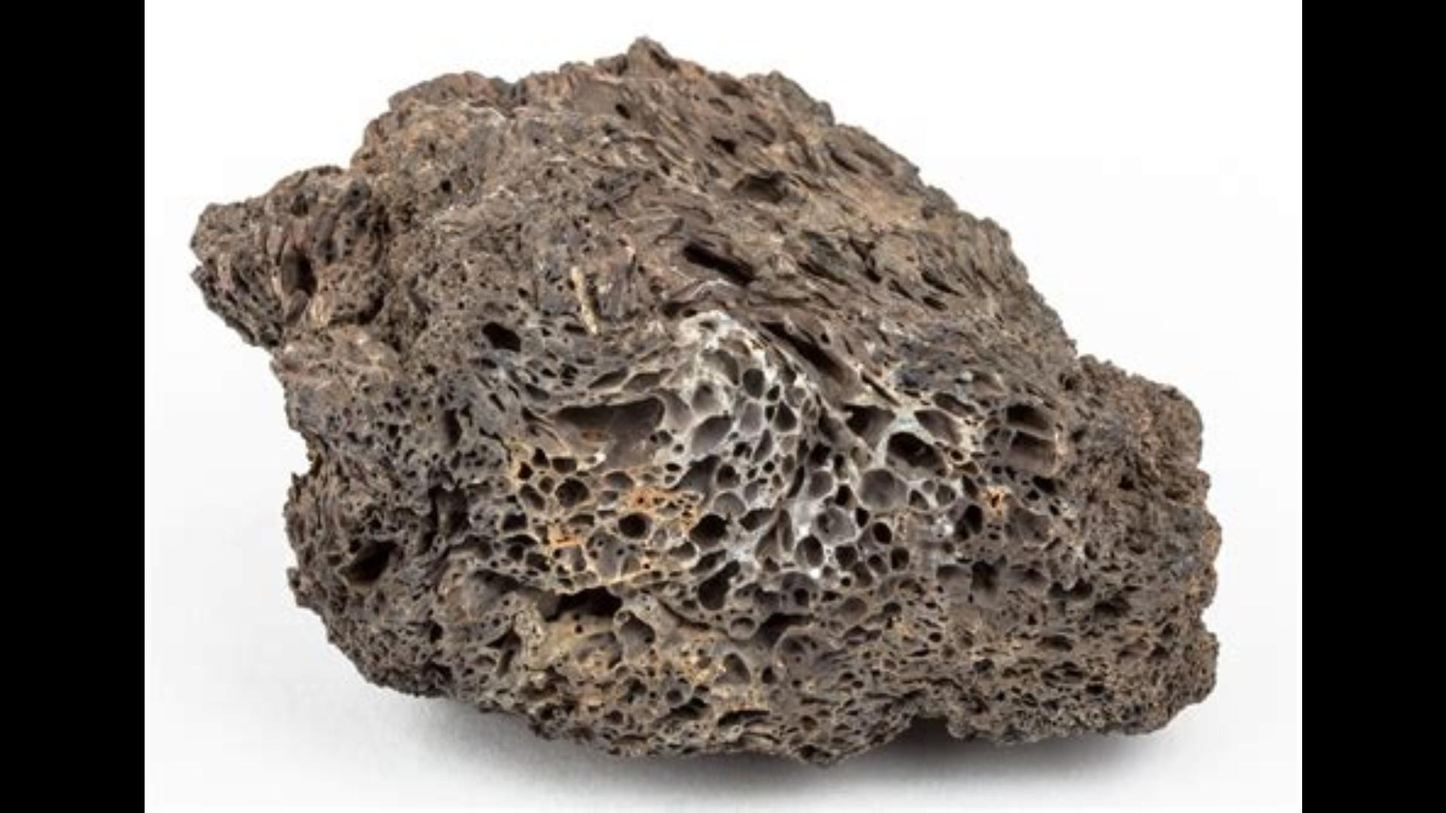rock: (200, 46, 1216, 757)
